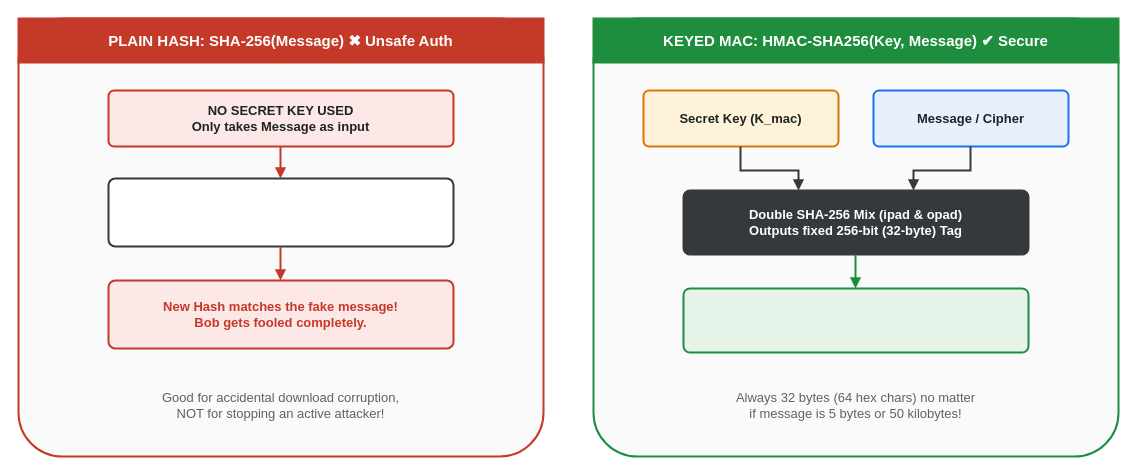
Image size: 1136x474. Some labels were removed from this diagram. Here are the shapes that lost their labels. From the top down, the centre of each, then its label:
the point at 280,212: Hacker changes "₹100" → "₹900" AND runs public SHA-256("₹900")
the point at 855,320: Attacker has NO K_mac ➔ cannot recompute valid tag ➔ Tampering caught 100%!
